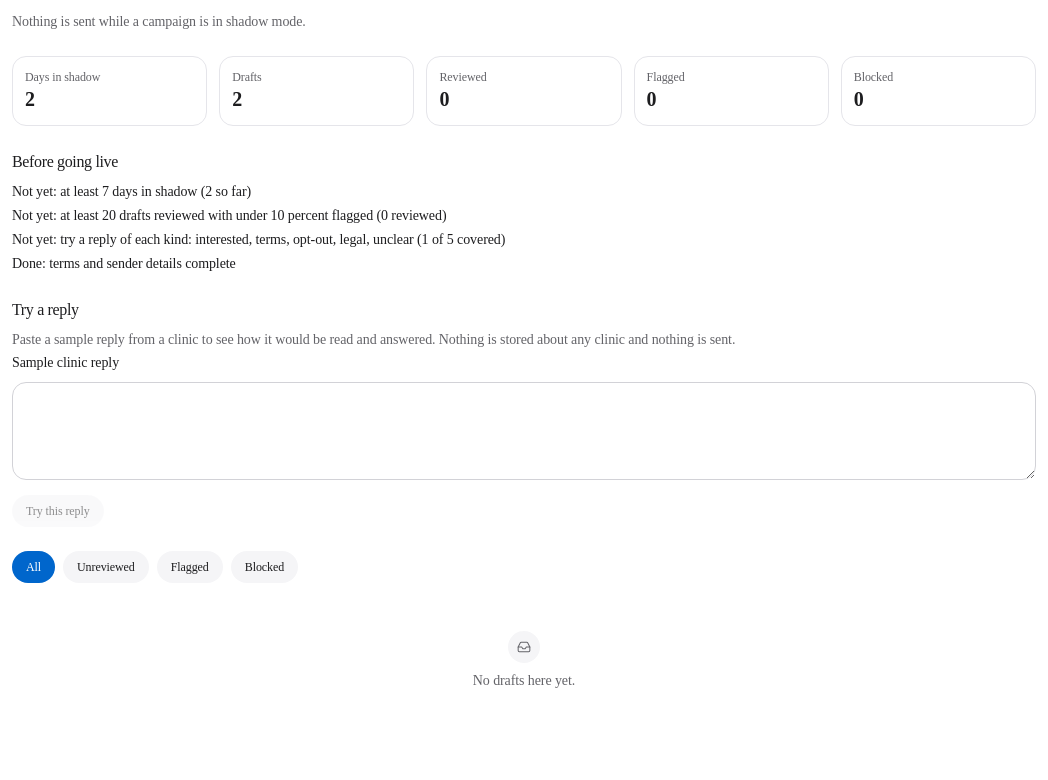
it: ShadowReview Phase 3 › says a person takes over when the reply is handed off
This screenshot has width=1048, height=780.
Type "our lawyer" into the text box labelled "Sample clinic reply" at (524, 431), box [12,382,1036,480]
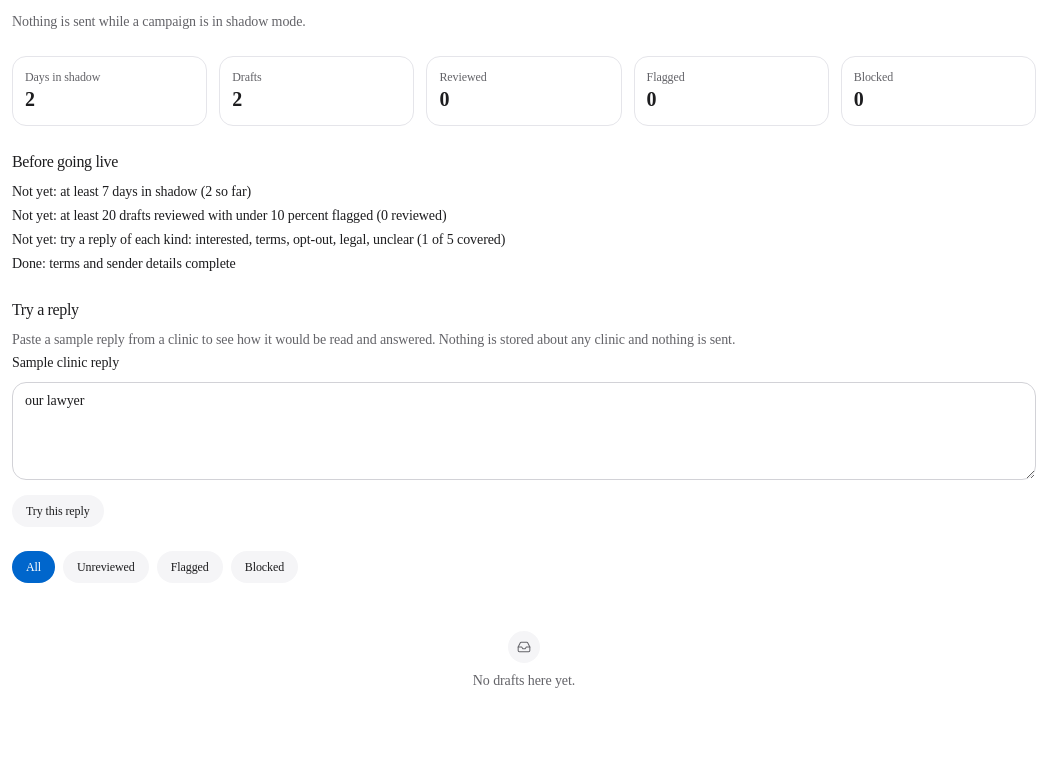
Click the button "Try this reply" at (58, 511), box [12,495,104,527]
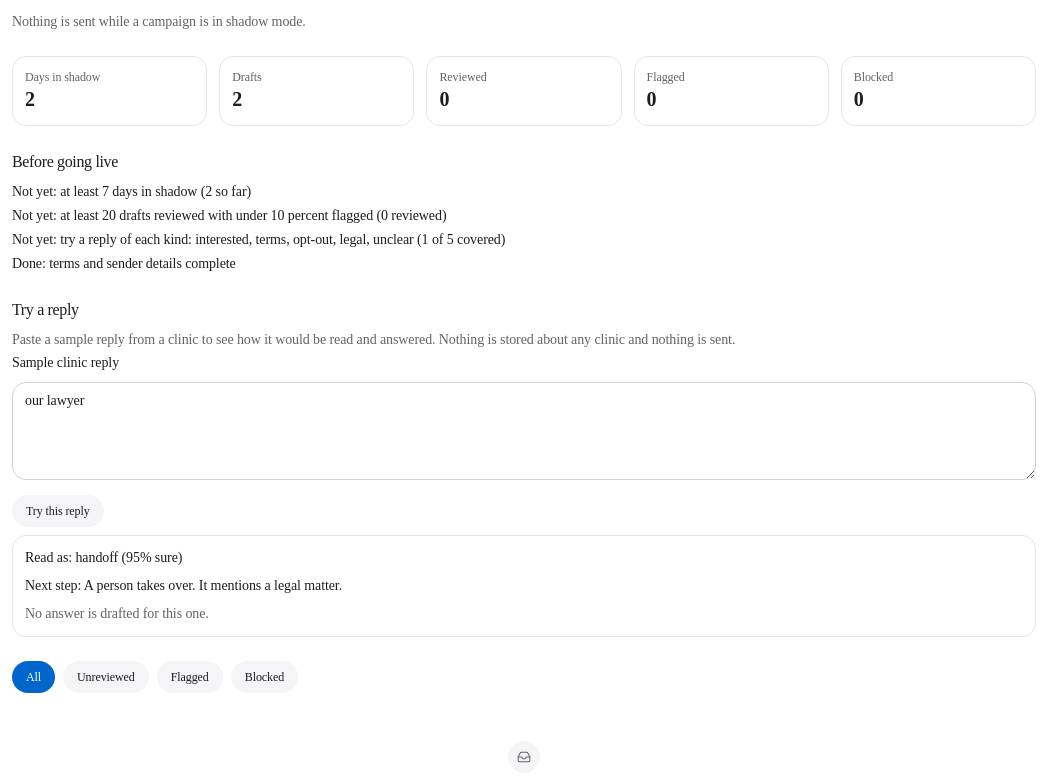
Check: the text "Next step: A person takes over. It mentions a legal matter." is shown, box [25,578,342,593]
Check: the text "No answer is drafted for this one." is shown, box [25,606,209,621]
